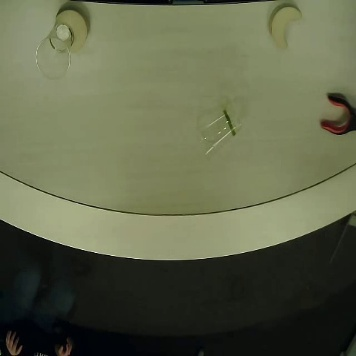empty_cup: (200, 103, 243, 160), (35, 22, 72, 80)
puck: (55, 9, 89, 52), (268, 5, 302, 48)
